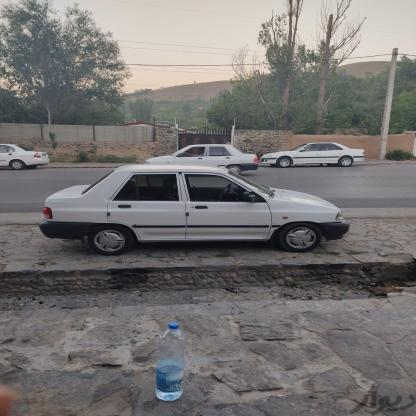Car: (28, 165, 358, 250), (134, 143, 262, 173), (248, 141, 372, 164), (0, 146, 58, 173)
